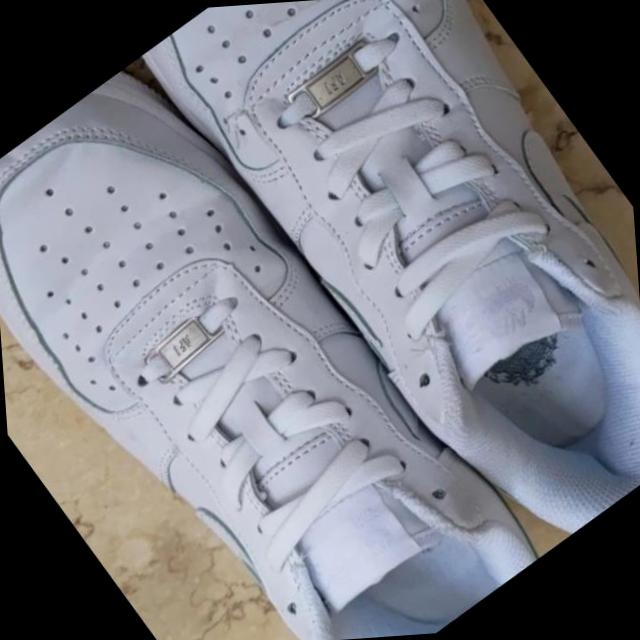nike_fake_airforce: (0, 11, 545, 640), (133, 0, 640, 598), (272, 69, 640, 579)
